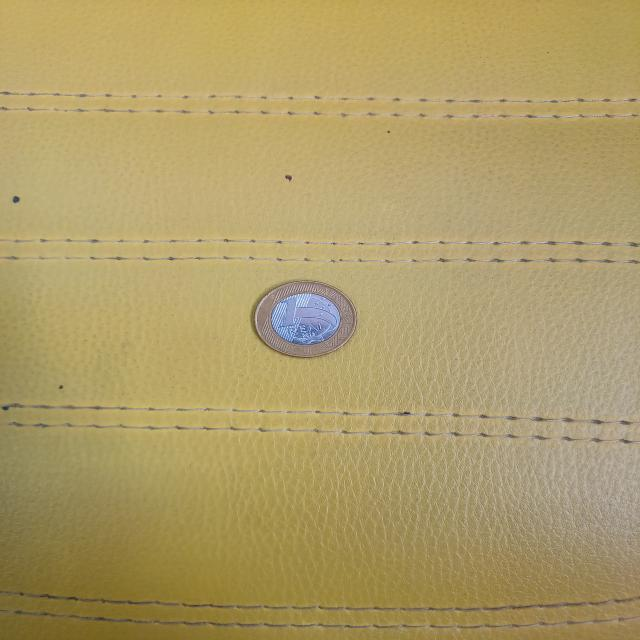1 real: (253, 276, 362, 358)
